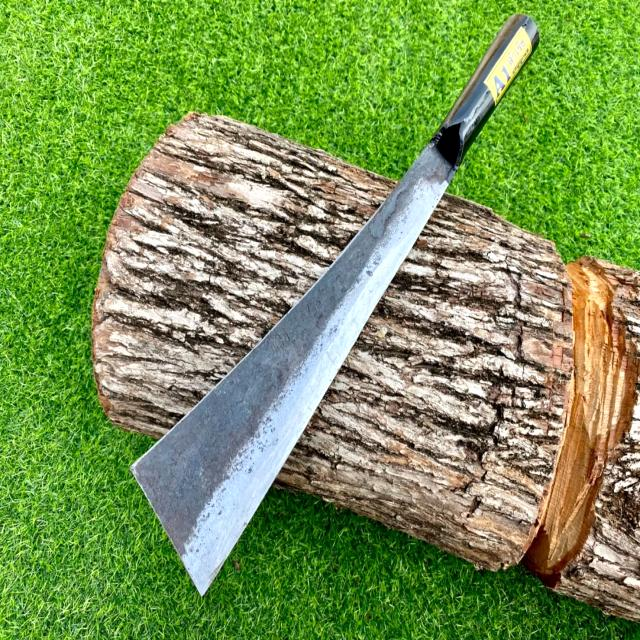eto: (121, 3, 554, 611)
